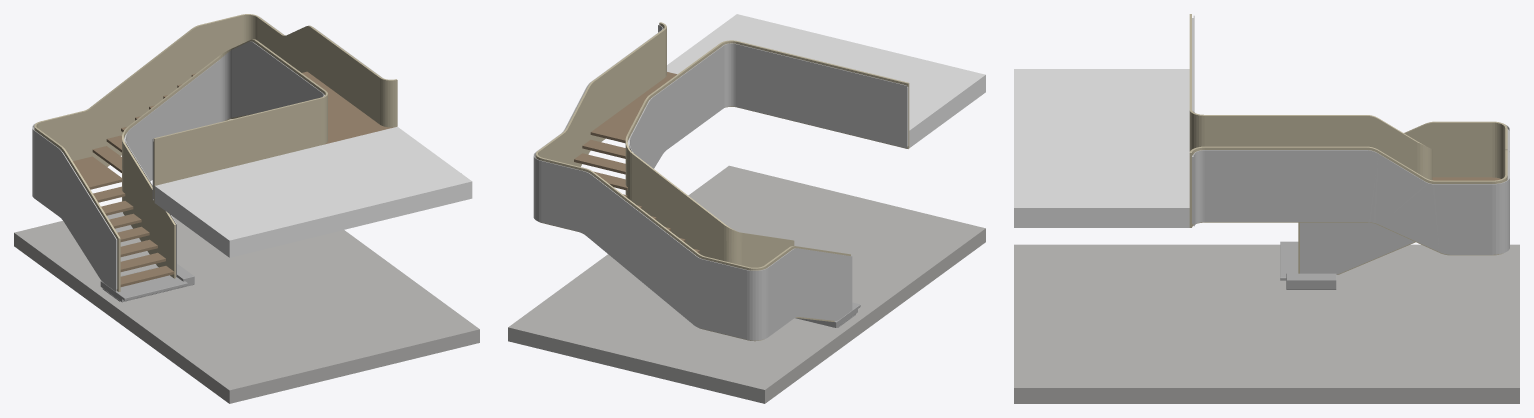
3 views of the same model, side by side, from view 1: azimuth 30°, elevation 25°; view 2: azimuth 150°, elevation 25°; view 3: azimuth 270°, elevation 25° (orthographic). The views are drawn at different scales.
Parts seen in each view (by area): view 1: IfcSlabDalle-002001, IfcSlabDalle-002, IfcBuildingElementProxyForme-064027, IfcBuildingElementProxyForme-062003, IfcBuildingElementProxyForme-063004, IfcBuildingElementProxyForme-061001, IfcBuildingElementProxyForme-064022, IfcBuildingElementProxyForme-064023, IfcBuildingElementProxyForme-063002, IfcSlabDalle-003014, IfcSlabDalle-003019, IfcSlabDalle-003004 (+7 smaller); view 2: IfcSlabDalle-002001, IfcBuildingElementProxyForme-063011, IfcBuildingElementProxyForme-064019, IfcSlabDalle-002, IfcBuildingElementProxyForme-063004, IfcBuildingElementProxyForme-061001, IfcBuildingElementProxyForme-064022, IfcBuildingElementProxyForme-064026, IfcBuildingElementProxyForme-063001, IfcSlabDalle-003014, IfcBuildingElementProxyForme-063002, IfcBuildingElementProxyForme-064027 (+6 smaller); view 3: IfcSlabDalle-002001, IfcSlabDalle-002, IfcBuildingElementProxyForme-063008, IfcBuildingElementProxyForme-062, IfcBuildingElementProxyForme-063, IfcBuildingElementProxyForme-063007, IfcBuildingElementProxyForme-061, IfcSlabDalle-003019, IfcBuildingElementProxyForme-061001, IfcBuildingElementProxyForme-063006, IfcBuildingElementProxyForme-063010, IfcBuildingElementProxyForme-064021 (+2 smaller).
Part boxes in pixels (bbox=[...]): IfcSlabDalle-002001: bbox=[14, 212, 479, 403]; IfcSlabDalle-002: bbox=[154, 126, 472, 257]; IfcBuildingElementProxyForme-064027: bbox=[41, 14, 242, 166]; IfcBuildingElementProxyForme-062003: bbox=[153, 97, 321, 202]; IfcBuildingElementProxyForme-063004: bbox=[34, 130, 116, 291]; IfcBuildingElementProxyForme-061001: bbox=[257, 17, 381, 124]; IfcBuildingElementProxyForme-064022: bbox=[232, 41, 322, 117]; IfcBuildingElementProxyForme-064023: bbox=[130, 59, 219, 181]; IfcBuildingElementProxyForme-063002: bbox=[123, 143, 175, 278]; IfcSlabDalle-003014: bbox=[302, 71, 395, 144]; IfcSlabDalle-003019: bbox=[100, 264, 194, 302]; IfcSlabDalle-003004: bbox=[73, 156, 121, 189]; IfcSlabDalle-002001: bbox=[508, 165, 985, 403]; IfcBuildingElementProxyForme-063011: bbox=[541, 161, 746, 339]; IfcBuildingElementProxyForme-064019: bbox=[736, 44, 907, 148]; IfcSlabDalle-002: bbox=[667, 14, 985, 147]; IfcBuildingElementProxyForme-063004: bbox=[768, 248, 852, 336]; IfcBuildingElementProxyForme-061001: bbox=[538, 29, 664, 166]; IfcBuildingElementProxyForme-064022: bbox=[630, 45, 723, 168]; IfcBuildingElementProxyForme-064026: bbox=[632, 153, 724, 260]; IfcBuildingElementProxyForme-063001: bbox=[747, 267, 768, 340]; IfcSlabDalle-003014: bbox=[590, 72, 676, 143]; IfcBuildingElementProxyForme-063002: bbox=[742, 232, 794, 267]; IfcBuildingElementProxyForme-064027: bbox=[542, 158, 748, 340]; IfcSlabDalle-002001: bbox=[1014, 244, 1519, 403]; IfcSlabDalle-002: bbox=[1014, 69, 1189, 227]; IfcBuildingElementProxyForme-063008: bbox=[1204, 150, 1492, 254]; IfcBuildingElementProxyForme-062: bbox=[1204, 115, 1340, 146]; IfcBuildingElementProxyForme-063: bbox=[1300, 222, 1414, 274]; IfcBuildingElementProxyForme-063007: bbox=[1404, 121, 1492, 177]; IfcBuildingElementProxyForme-061: bbox=[1340, 115, 1417, 172]; IfcSlabDalle-003019: bbox=[1280, 241, 1336, 289]; IfcBuildingElementProxyForme-061001: bbox=[1204, 146, 1492, 255]; IfcBuildingElementProxyForme-063006: bbox=[1492, 177, 1509, 254]; IfcBuildingElementProxyForme-063010: bbox=[1193, 150, 1204, 226]; IfcBuildingElementProxyForme-064021: bbox=[1492, 121, 1507, 178].
Size of the model in its own units: 5.6 by 4.49 by 8.35.
